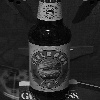beer: (28, 1, 72, 100)
